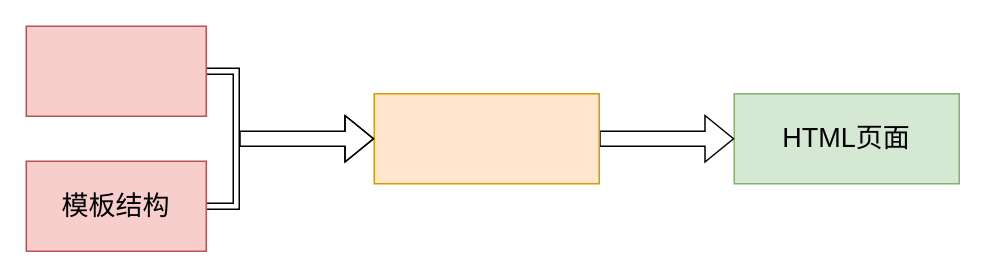
The diagram is 986 pixels wide and 278 high, and some of its shapes have lost their labels. Here are the shapes that lost their labels. From the top down, the centre of each, then its label:
At (x=115, y=70): "数据".
At (x=486, y=138): "模板引擎".
